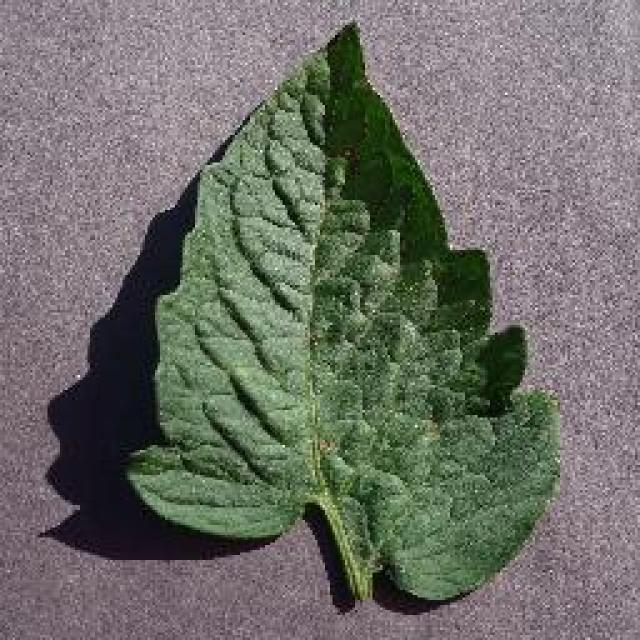Tomato Septoria spot leaf: (117, 20, 565, 600)
